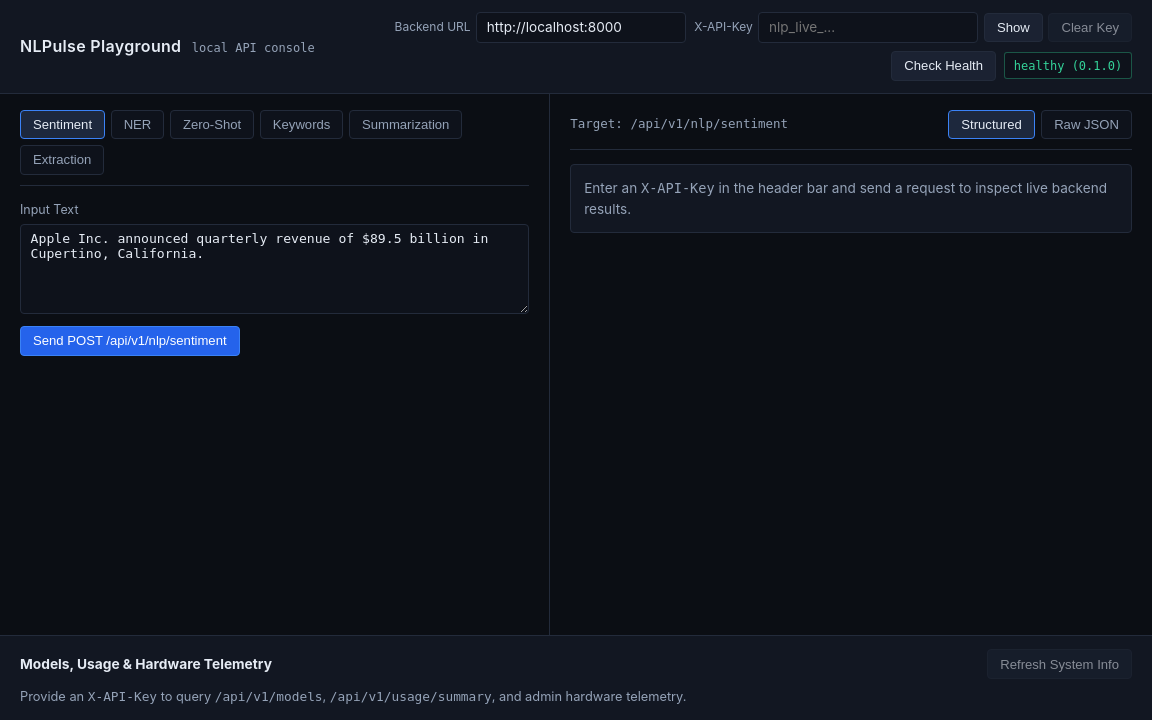
Test case: NLPulse Playground App › stores API key only in sessionStorage and clears it on Clear Key
Expected: the text with test id "health-status" reads "healthy (0.1.0)", [1014,59,1122,73]
Type "nlp_live_session_only" into the password field labelled "X-API-Key" at (868, 27), box [758,12,978,43]
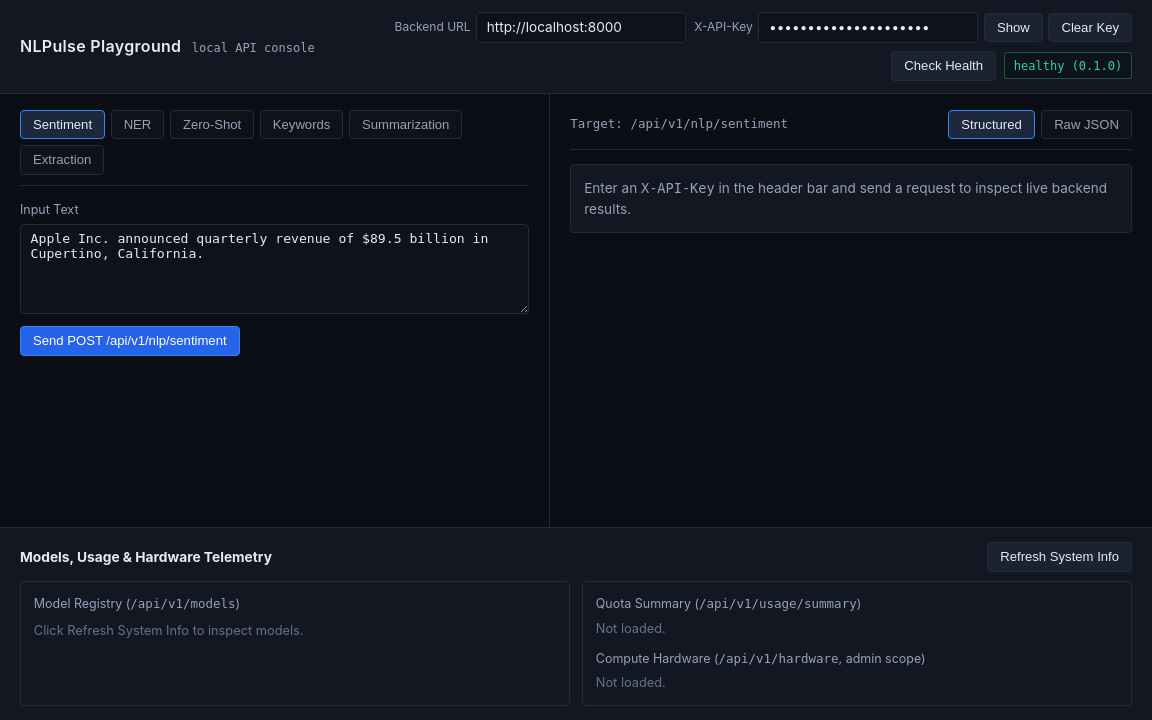
Click the button "Clear Key" at (1090, 27), box [1048,12,1132,42]
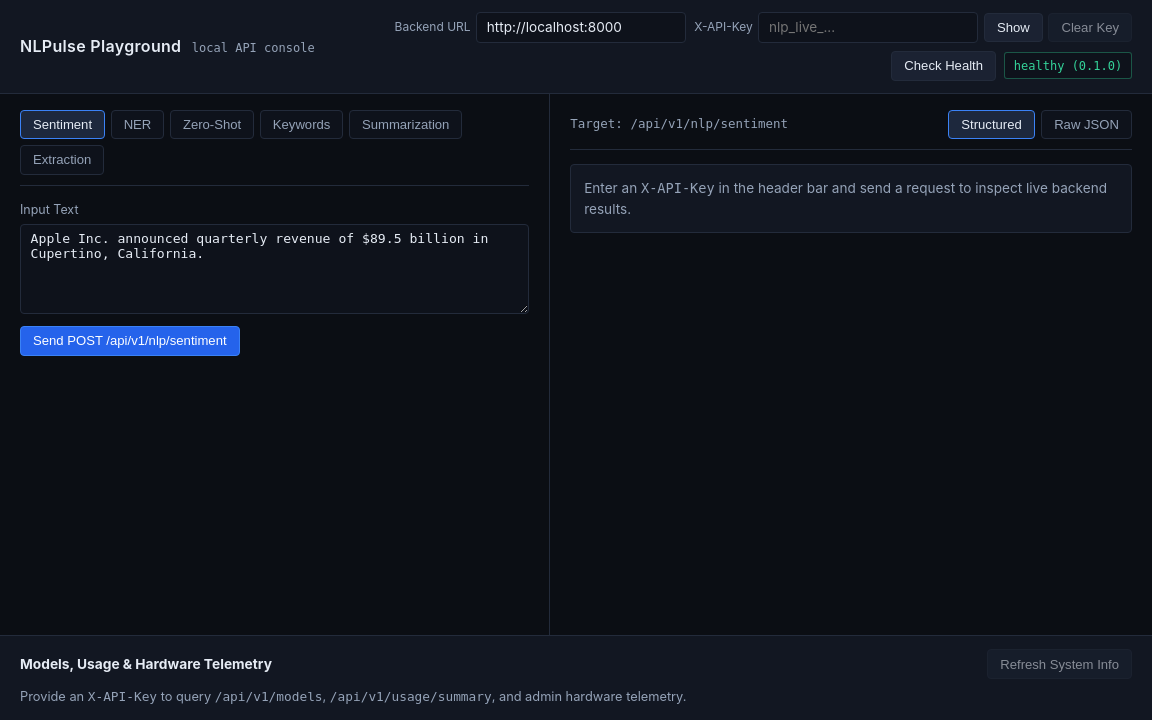
Expected: the password field labelled "X-API-Key" is empty, [758,12,978,43]
